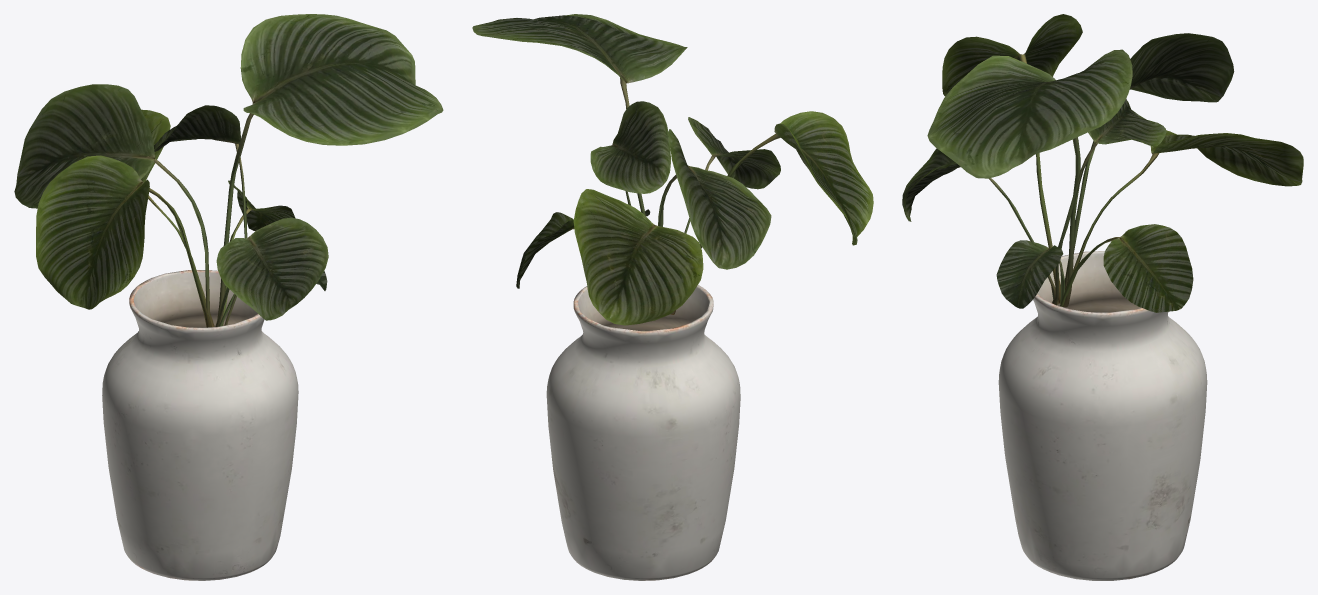
Rendered from plant-calathea.glb.
3 renders of one model, left to right at view 1: azimuth 30°, elevation 25°; view 2: azimuth 150°, elevation 25°; view 3: azimuth 270°, elevation 25°, orthographic. The views are drawn at different scales.
Visible parts, largest first — view 1: calathea_orbifolia_01_a, ceramic_vase_02; view 2: ceramic_vase_02, calathea_orbifolia_01_a; view 3: ceramic_vase_02, calathea_orbifolia_01_a.
Part boxes in pixels (<box>): calathea_orbifolia_01_a: <box>14,14,443,327</box>; ceramic_vase_02: <box>102,270,298,580</box>; ceramic_vase_02: <box>546,284,740,580</box>; calathea_orbifolia_01_a: <box>472,14,873,325</box>; ceramic_vase_02: <box>998,251,1207,580</box>; calathea_orbifolia_01_a: <box>902,14,1303,312</box>.
Bounding box in the file's own units: 0.4804 × 0.6177 × 0.4205.
2 materials, 2 textured.
